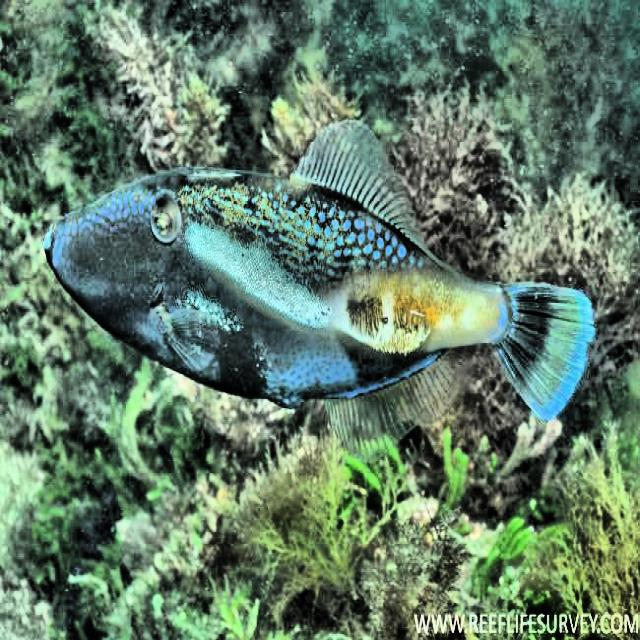fish: (41, 117, 597, 464)
